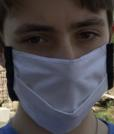with_mask: (2, 1, 114, 134)
